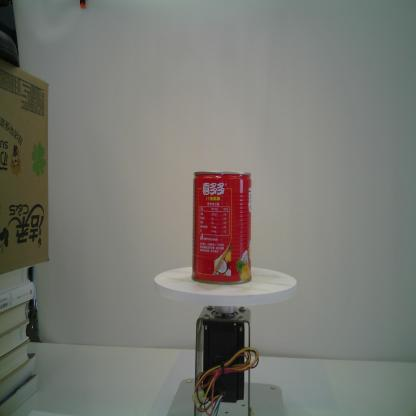Canned Food: (190, 166, 254, 287)
